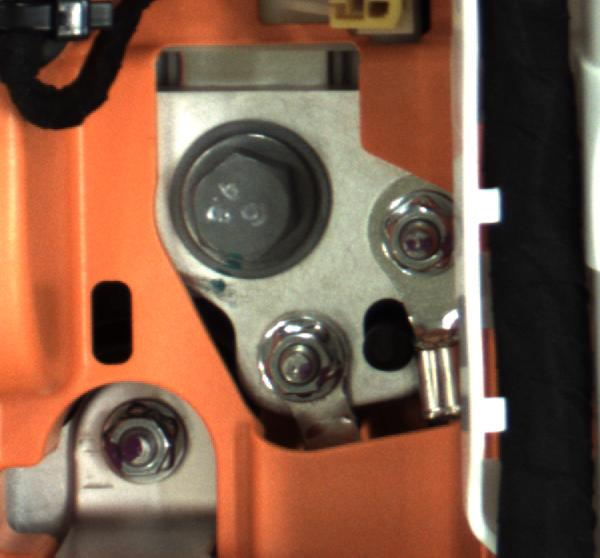nut_b: (157, 110, 340, 276)
screw_s: (252, 312, 346, 407), (99, 402, 199, 485), (373, 191, 456, 274)
